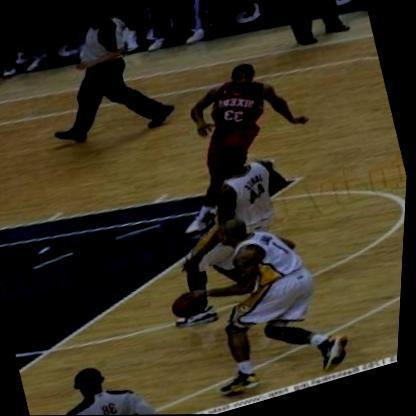basketball: (168, 281, 218, 327)
